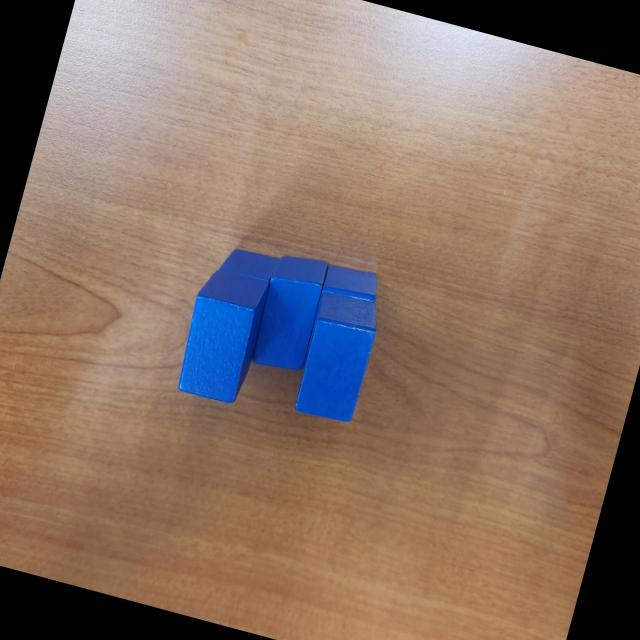blue: (169, 264, 272, 410), (288, 286, 384, 428), (247, 250, 331, 378), (307, 260, 383, 358), (217, 240, 280, 284)
